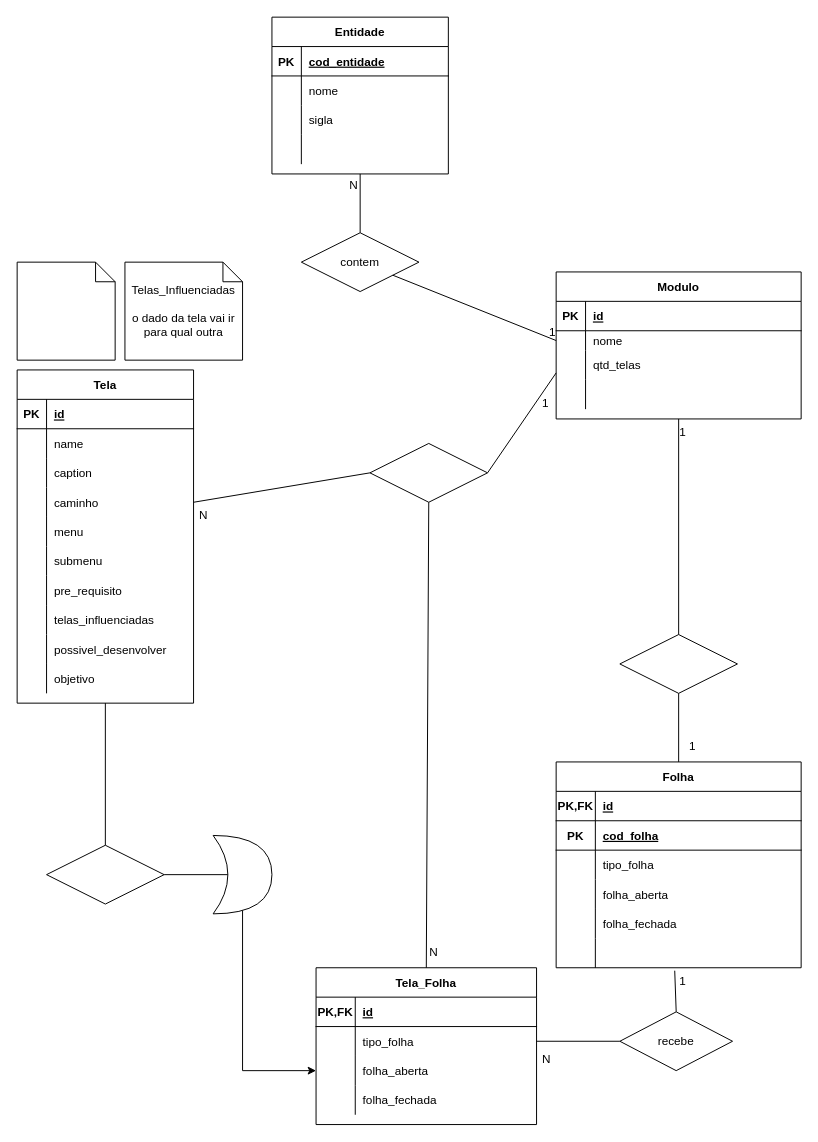
The diagram is 818 pixels wide and 1142 high, and some of its shapes have lost their labels. The centre of each missing label's shape, as x and y in pixels:
"Caminho {menu, submenu, caption}" goes at [65,310].
"contém" goes at [428,472].
"herda" goes at [105,874].
"possui" goes at [678,663].
